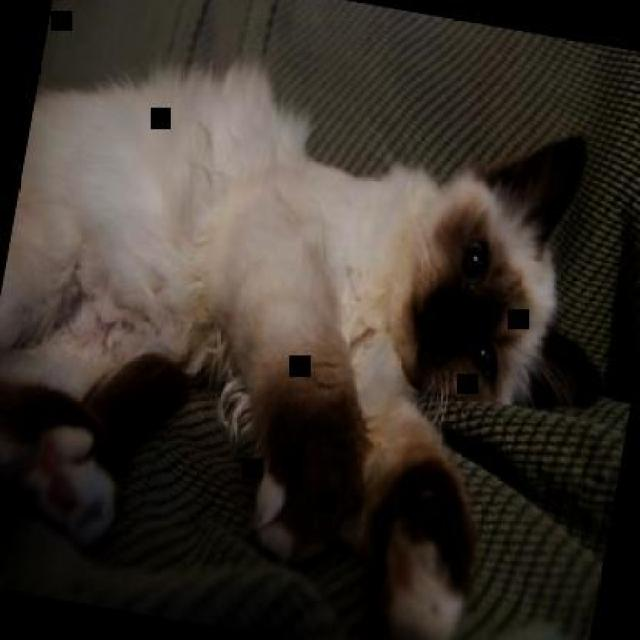cat: (0, 39, 638, 638)
